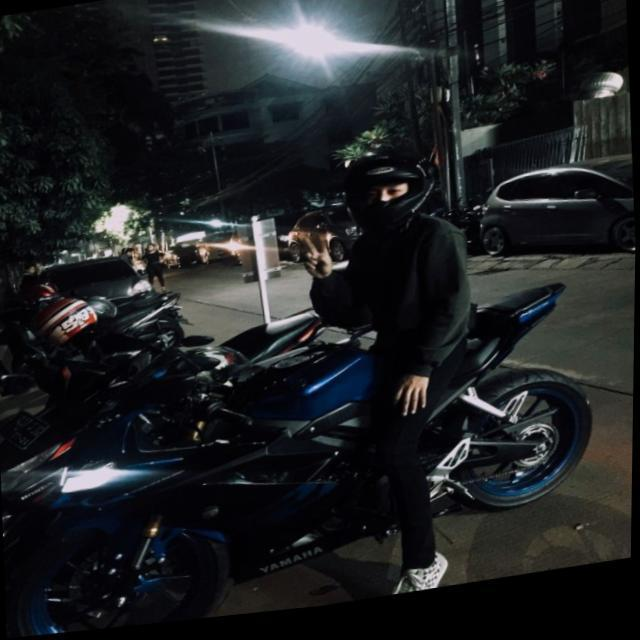Helmet: (329, 143, 445, 242)
